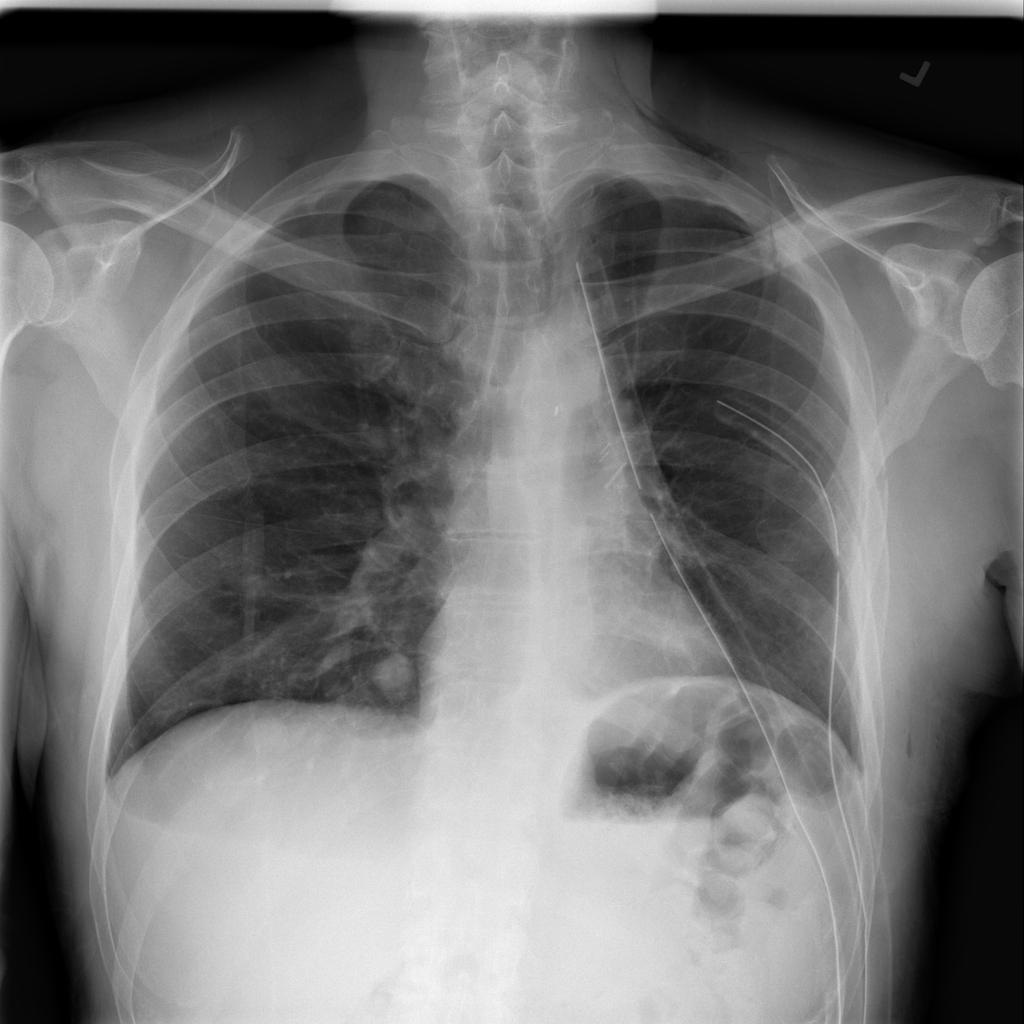nodule: (233, 701, 312, 769), (354, 641, 433, 708)
